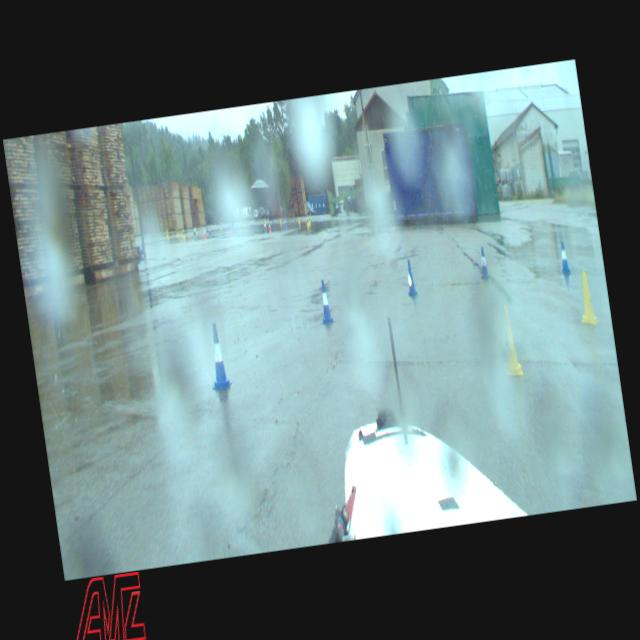blue_cone: (204, 322, 233, 390), (316, 279, 334, 324), (404, 260, 418, 296), (558, 240, 571, 276), (478, 247, 490, 279), (284, 219, 288, 227), (295, 219, 298, 228), (208, 227, 211, 236), (193, 227, 196, 236), (283, 220, 286, 228), (264, 222, 266, 231)
orange_cone: (268, 222, 272, 232), (204, 228, 206, 237)
yellow_cone: (496, 304, 524, 376), (575, 272, 599, 326), (308, 216, 311, 226), (306, 217, 309, 227), (182, 230, 185, 238), (176, 227, 178, 236), (220, 222, 222, 231)
